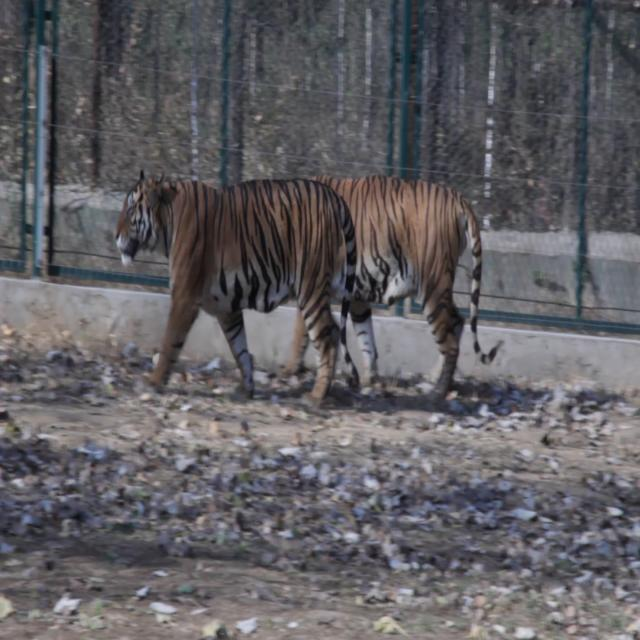Tiger: (109, 167, 361, 402), (291, 150, 502, 409)
